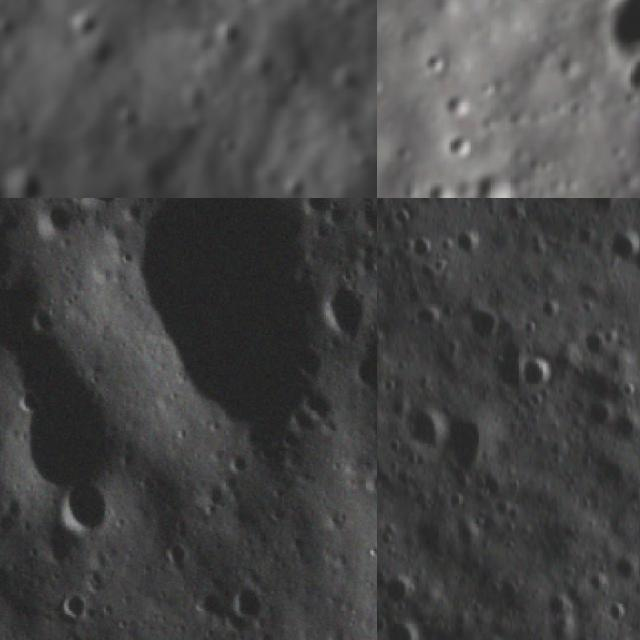crater: (113, 198, 358, 451), (0, 376, 148, 513), (0, 198, 51, 383), (46, 478, 126, 546), (440, 402, 500, 480), (320, 280, 376, 347), (402, 396, 450, 457), (604, 0, 640, 72), (590, 446, 640, 497), (596, 213, 640, 268), (460, 296, 506, 346), (520, 350, 566, 394), (0, 164, 59, 198), (466, 162, 520, 198), (377, 561, 415, 610), (353, 333, 377, 410), (61, 3, 98, 51), (440, 127, 478, 172), (54, 584, 91, 630), (88, 37, 127, 80), (211, 15, 250, 58), (377, 607, 427, 640), (229, 580, 267, 622), (34, 199, 72, 240), (276, 162, 319, 198), (580, 392, 618, 432), (442, 84, 479, 124), (452, 220, 488, 258), (419, 43, 454, 80), (6, 115, 43, 149), (225, 450, 258, 486), (608, 549, 640, 586), (579, 322, 610, 360), (198, 479, 230, 514), (408, 298, 443, 329), (610, 408, 640, 443), (402, 230, 436, 260), (160, 538, 189, 572), (299, 198, 333, 225), (619, 50, 640, 93), (536, 294, 567, 322), (600, 596, 629, 623), (425, 178, 461, 198), (225, 0, 262, 8), (377, 73, 387, 97)
